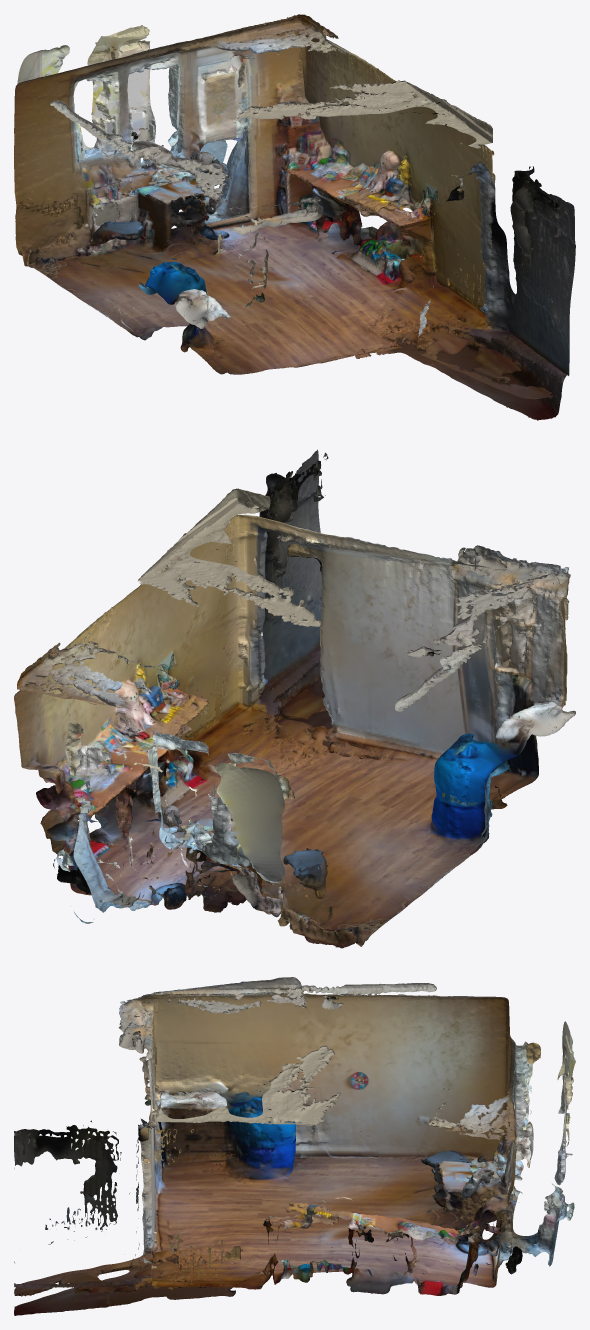
The model's file is polycam2.glb.
The picture shows the model from 3 angles, top to bottom: view 1: azimuth 30°, elevation 25°; view 2: azimuth 150°, elevation 25°; view 3: azimuth 270°, elevation 25°; orthographic projection. The views are drawn at different scales.
Bounding box in the file's own units: 4.06 × 2.99 × 7.
2 materials, 2 textured.
